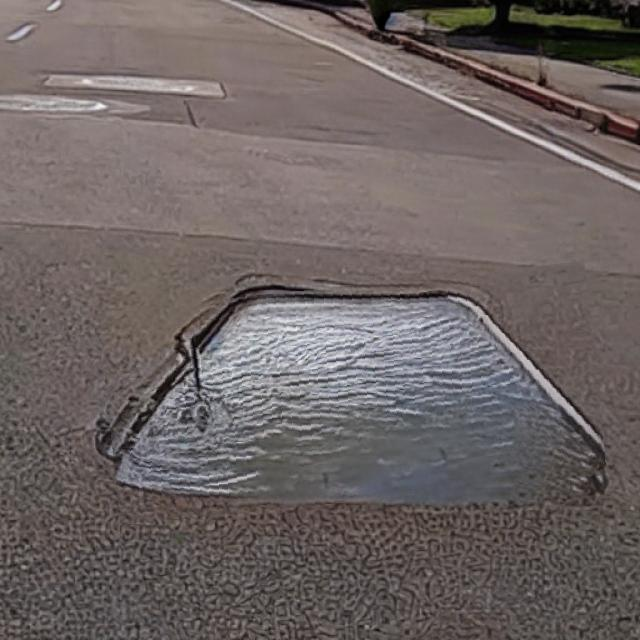puddle: (104, 275, 603, 514)
